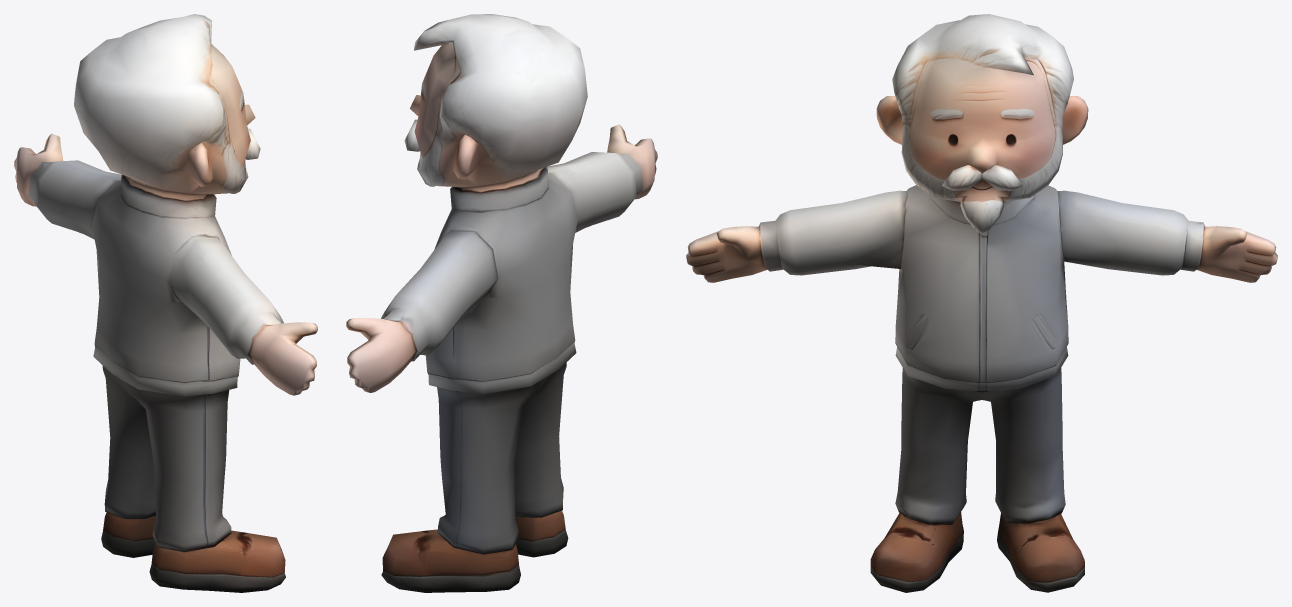
3 views of the same model, side by side, from view 1: azimuth 30°, elevation 25°; view 2: azimuth 150°, elevation 25°; view 3: azimuth 270°, elevation 25° (orthographic). The views are drawn at different scales.
Parts seen in each view (by area): view 1: tripo_node_00d2e407-9782-40b3-8ea5-030f33f4c63a; view 2: tripo_node_00d2e407-9782-40b3-8ea5-030f33f4c63a; view 3: tripo_node_00d2e407-9782-40b3-8ea5-030f33f4c63a.
Part boxes in pixels (x1,y1,x2,y2): tripo_node_00d2e407-9782-40b3-8ea5-030f33f4c63a: (14, 14, 317, 592); tripo_node_00d2e407-9782-40b3-8ea5-030f33f4c63a: (346, 14, 657, 592); tripo_node_00d2e407-9782-40b3-8ea5-030f33f4c63a: (686, 14, 1277, 592).
Bounding box in the file's own units: 0.3188 × 0.9995 × 0.9995.
Materials: 1 (1 with a texture image).
